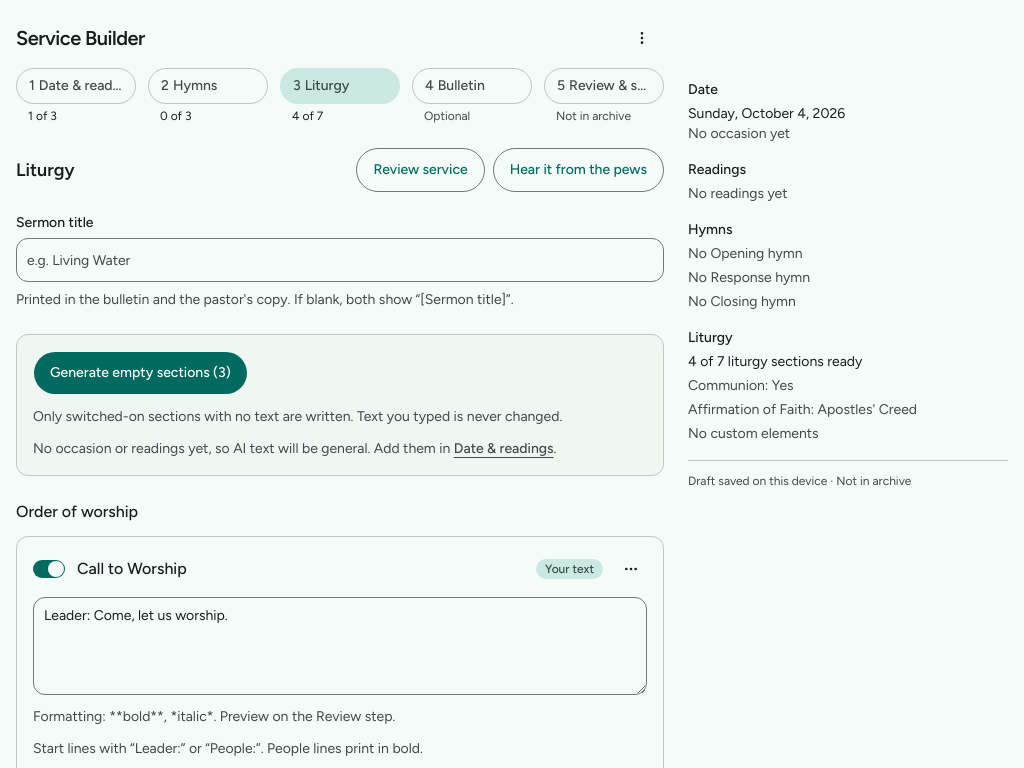
Test case: Hear it from the pews (pew voices spec) › labels each reaction Helped or Didn't land, and offers Revise with this only on one that did not land
Step 1. Click the button "Hear it from the pews" → (578, 170), box [493,148,664,192]
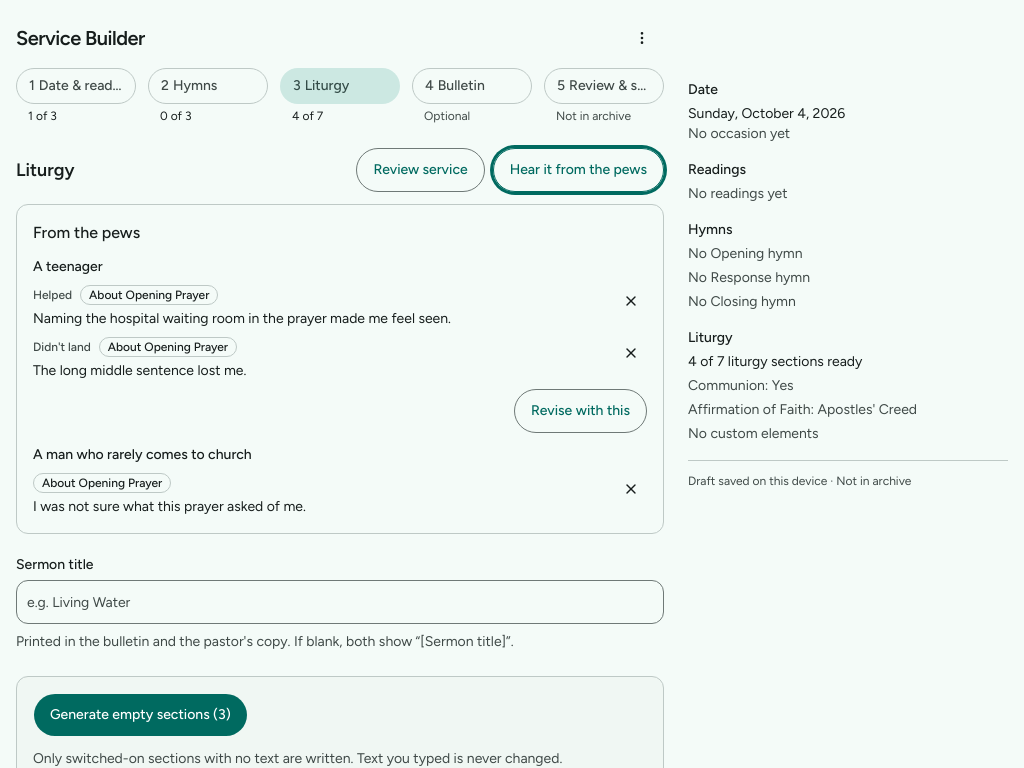
Expected: the button "Revise with this" is shown, [514,389,647,433]
